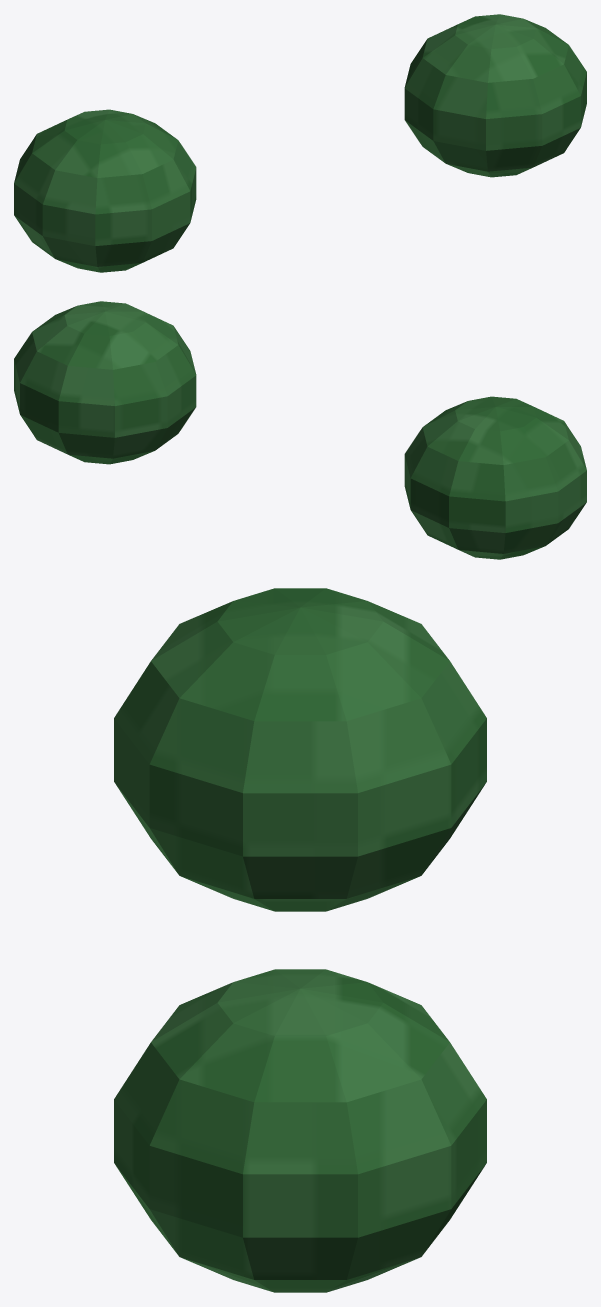
The model's file is garden_root_pavilion_foliage.obj.
3 views of the same model, one above another, from view 1: azimuth 30°, elevation 25°; view 2: azimuth 150°, elevation 25°; view 3: azimuth 270°, elevation 25° (orthographic). The views are drawn at different scales.
Size of the model in its own units: 4.6 by 1.15 by 1.36.
1 material, 1 textured.
